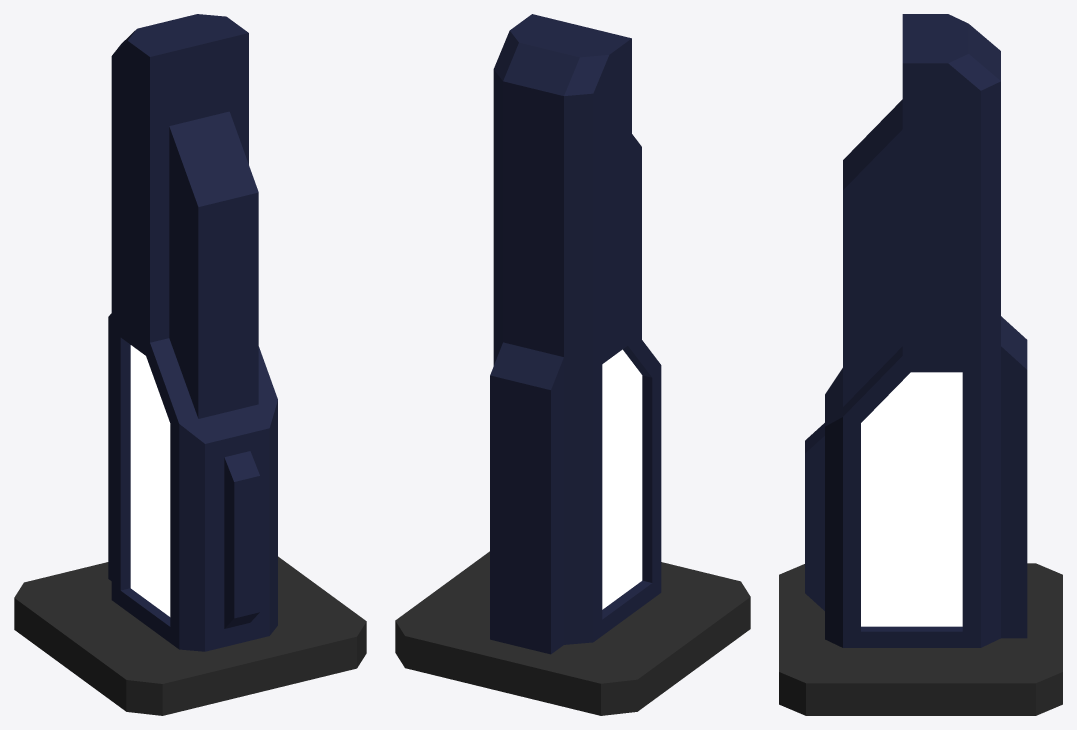
File: BuildingB.fbx
3 renders of one model, left to right at view 1: azimuth 30°, elevation 25°; view 2: azimuth 150°, elevation 25°; view 3: azimuth 270°, elevation 25°, orthographic. The views are drawn at different scales.
Visible parts, largest first — view 1: Cube.070; view 2: Cube.070; view 3: Cube.070.
Boxes of the visible parts, x1,y1,x2,y2 form: Cube.070: (14,14,366,715); Cube.070: (395,14,750,715); Cube.070: (779,14,1062,715).
Size of the model in its own units: 286 by 685 by 286.
1 material, 1 textured.
